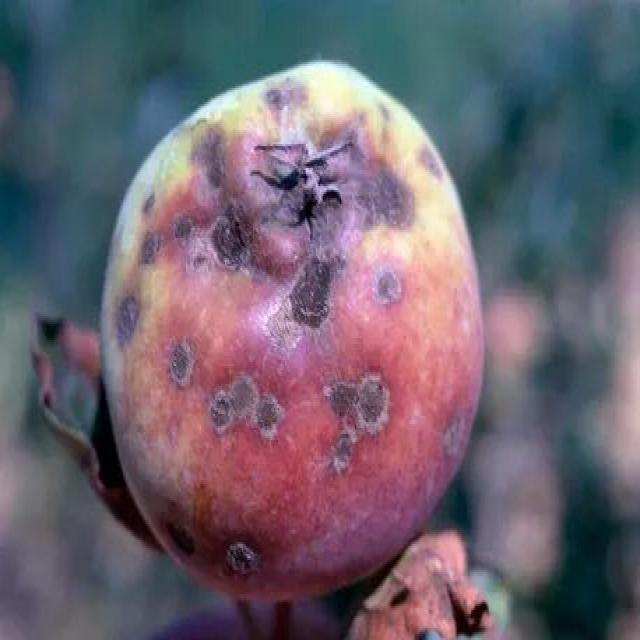Rotten: (106, 74, 490, 590)
